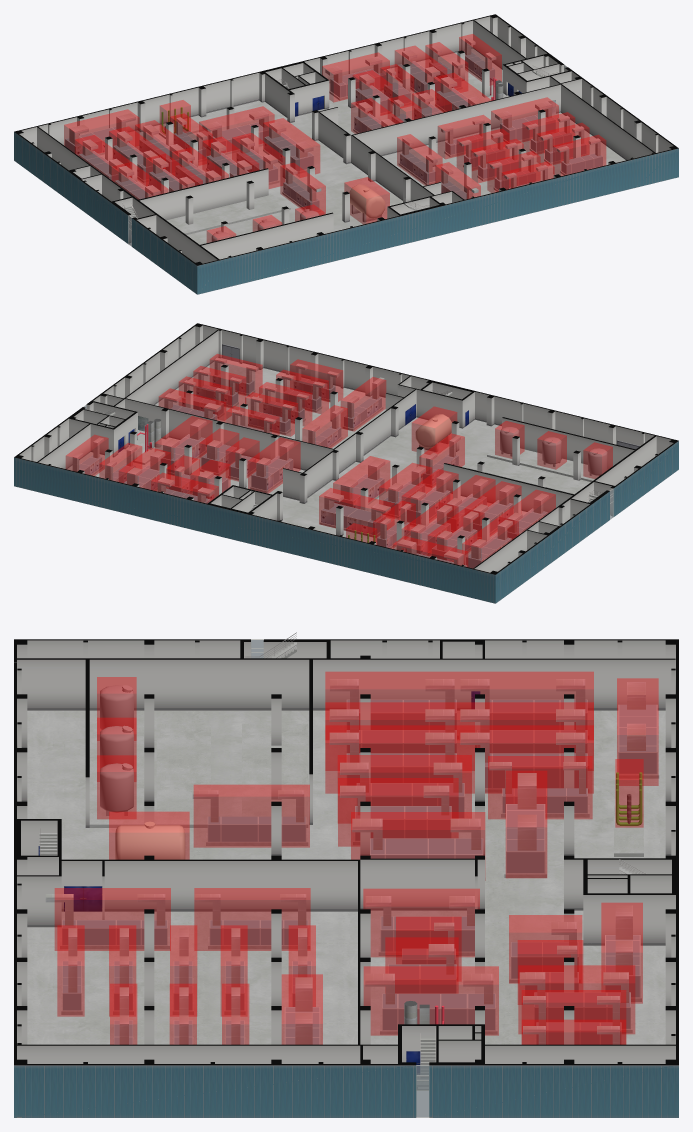
The picture shows the model from 3 angles, top to bottom: view 1: azimuth 30°, elevation 25°; view 2: azimuth 150°, elevation 25°; view 3: azimuth 270°, elevation 25°; orthographic projection. The views are drawn at different scales.
Visible parts, largest first — view 1: Polyline, Line2220, equipment-PD2-4F-012, equipment-PD2-4F-001, equipment-PD2-4F-030, PD2-4-71, equipment-PD2-4F-009, equipment-PD2-4F-018, equipment-PD2-4F-038, equipment-PD2-4F-011, equipment-PD2-4F-013, equipment-PD2-4F-028 (+61 smaller); view 2: Polyline, Line2220, equipment-PD2-4F-009, equipment-PD2-4F-024, equipment-PD2-4F-012, equipment-PD2-4F-027, equipment-PD2-4F-003, equipment-PD2-4F-029, equipment-PD2-4F-010, equipment-PD2-4F-004, equipment-PD2-4F-011, equipment-PD2-4F-032 (+66 smaller); view 3: Polyline, Line2220, equipment-PD2-4F-027, equipment-PD2-4F-013, equipment-PD2-4F-004, equipment-PD2-4F-011, equipment-PD2-4F-010, equipment-PD2-4F-028, equipment-PD2-4F-029, equipment-PD2-4F-007, equipment-PD2-4F-012, equipment-PD2-4F-006 (+72 smaller).
Boxes of the visible parts, bbox=[...] form: Polyline: bbox=[14, 14, 678, 294]; Line2220: bbox=[101, 48, 625, 239]; equipment-PD2-4F-012: bbox=[263, 118, 319, 177]; equipment-PD2-4F-001: bbox=[64, 109, 139, 155]; equipment-PD2-4F-030: bbox=[491, 97, 558, 143]; PD2-4-71: bbox=[166, 194, 290, 234]; equipment-PD2-4F-009: bbox=[199, 106, 274, 152]; equipment-PD2-4F-018: bbox=[322, 52, 389, 102]; equipment-PD2-4F-038: bbox=[553, 135, 605, 175]; equipment-PD2-4F-011: bbox=[232, 133, 284, 188]; equipment-PD2-4F-013: bbox=[280, 163, 325, 214]; equipment-PD2-4F-028: bbox=[397, 134, 442, 185]; Polyline: bbox=[14, 323, 678, 603]; Line2220: bbox=[67, 358, 590, 564]; equipment-PD2-4F-009: bbox=[319, 488, 394, 536]; equipment-PD2-4F-024: bbox=[248, 437, 300, 493]; equipment-PD2-4F-012: bbox=[333, 456, 389, 508]; equipment-PD2-4F-027: bbox=[155, 416, 212, 475]; equipment-PD2-4F-003: bbox=[428, 508, 484, 561]; equipment-PD2-4F-029: bbox=[341, 377, 385, 431]; equipment-PD2-4F-010: bbox=[402, 469, 458, 525]; equipment-PD2-4F-004: bbox=[402, 502, 458, 555]; equipment-PD2-4F-011: bbox=[379, 463, 431, 519]; equipment-PD2-4F-032: bbox=[245, 392, 297, 436]; Polyline: bbox=[14, 639, 678, 1117]; Line2220: bbox=[27, 710, 665, 1044]; equipment-PD2-4F-027: bbox=[364, 966, 498, 1035]; equipment-PD2-4F-013: bbox=[194, 785, 309, 847]; equipment-PD2-4F-004: bbox=[460, 725, 593, 793]; equipment-PD2-4F-011: bbox=[338, 778, 458, 846]; equipment-PD2-4F-010: bbox=[338, 755, 471, 823]; equipment-PD2-4F-028: bbox=[194, 888, 310, 950]; equipment-PD2-4F-029: bbox=[55, 888, 170, 950]; equipment-PD2-4F-007: bbox=[325, 725, 459, 793]; equipment-PD2-4F-012: bbox=[351, 812, 484, 859]; equipment-PD2-4F-006: bbox=[325, 702, 459, 770].
Size of the model in its own units: 79.28 by 5.42 by 52.27.
25 materials, 17 textured.
